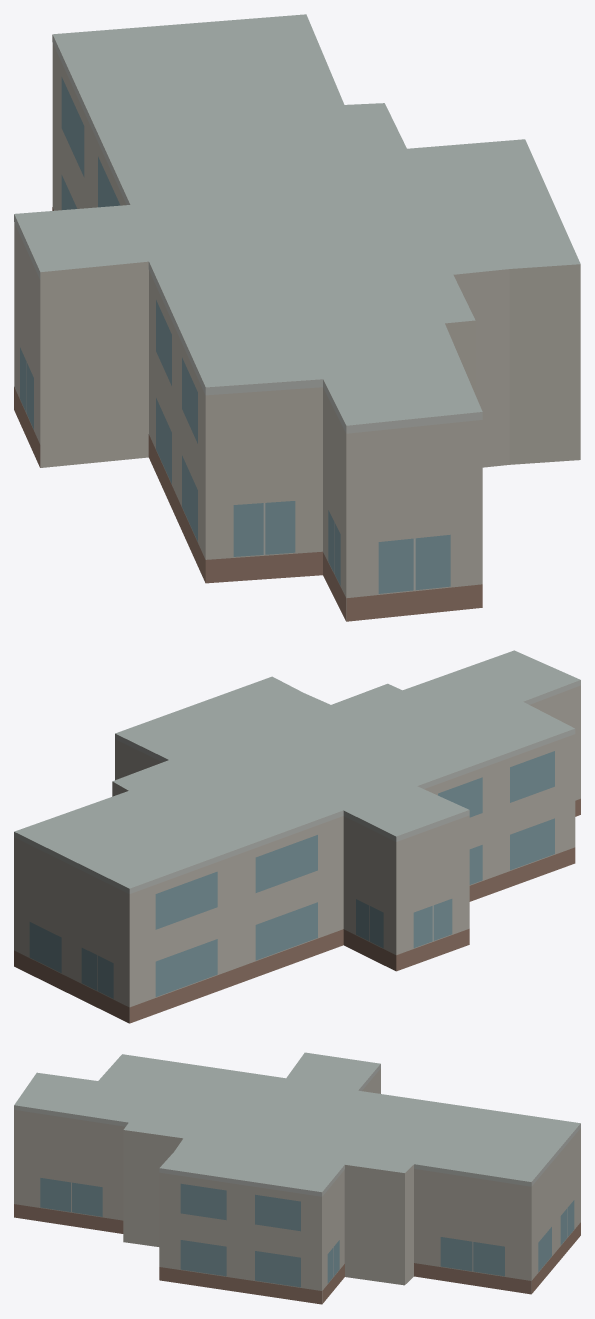
File: survey-upis-32497906.glb
3 views of the same model, one above another, from view 1: azimuth 30°, elevation 25°; view 2: azimuth 150°, elevation 25°; view 3: azimuth 270°, elevation 25° (orthographic). The views are drawn at different scales.
Visible parts, largest first — view 1: survey-upis-32497906.tmp; view 2: survey-upis-32497906.tmp; view 3: survey-upis-32497906.tmp.
Part boxes in pixels (box(x1,y1,x2,y2)): survey-upis-32497906.tmp: box(14, 14, 580, 621); survey-upis-32497906.tmp: box(14, 650, 580, 1023); survey-upis-32497906.tmp: box(14, 1052, 580, 1304).
Bounding box in the file's own units: 15.64 × 5.85 × 26.78.
